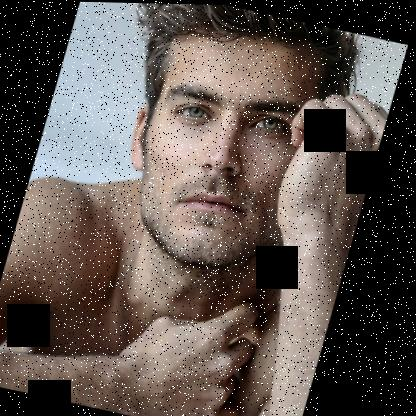Male: (101, 14, 350, 283)
